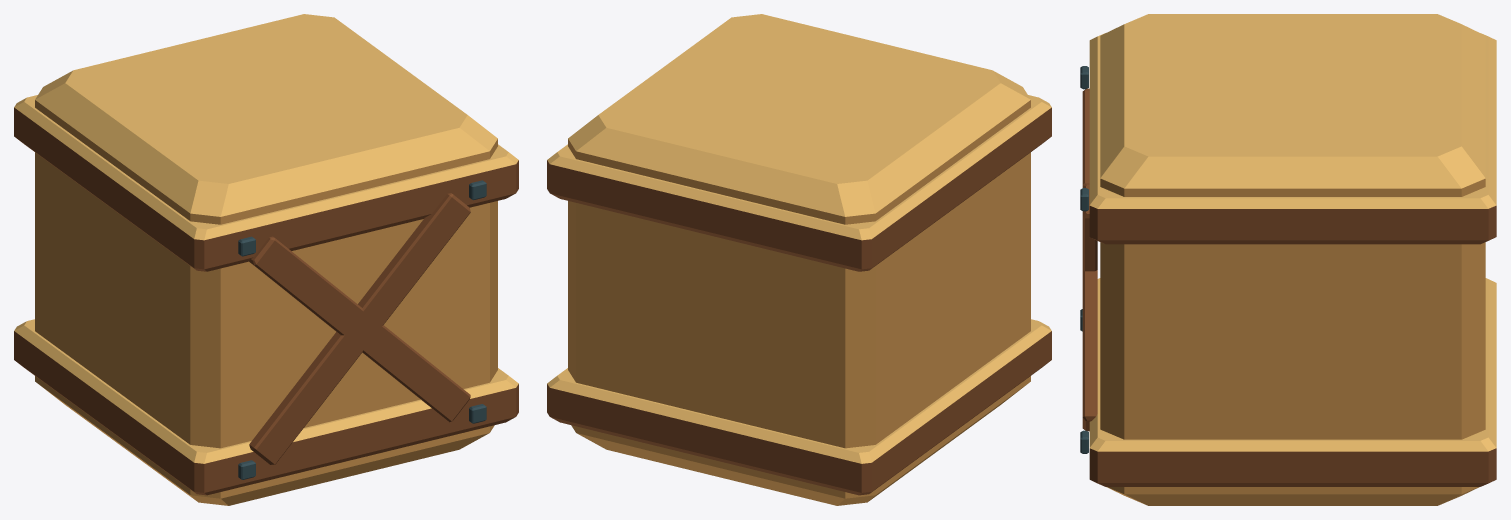
File: crate.gltf
3 views of the same model, side by side, from view 1: azimuth 30°, elevation 25°; view 2: azimuth 150°, elevation 25°; view 3: azimuth 270°, elevation 25° (orthographic). The views are drawn at different scales.
Visible parts, largest first — view 1: crate; view 2: crate; view 3: crate.
Boxes of the visible parts, x1=… form: crate: x1=14, y1=14, x2=518, y2=505; crate: x1=547, y1=14, x2=1051, y2=505; crate: x1=1080, y1=14, x2=1496, y2=505.
Size of the model in its own units: 0.76 by 0.72 by 0.777.
1 material, 1 textured.
